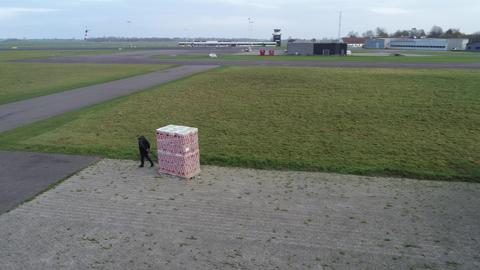RockwoolPallet: (155, 124, 201, 180)
